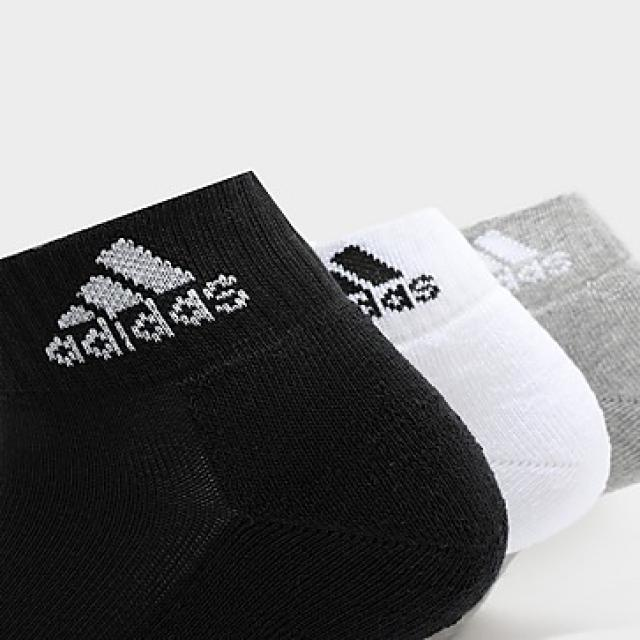sock: (0, 168, 510, 638), (312, 204, 612, 559)
